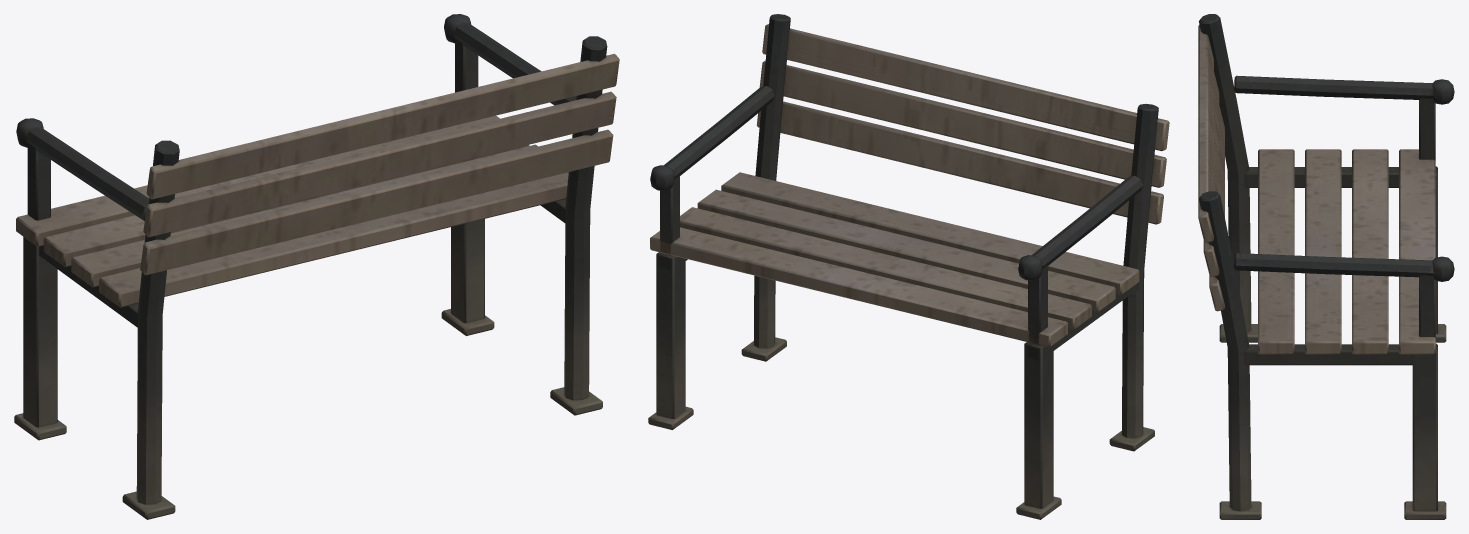
The model's file is bench-v2.glb.
3 views of the same model, side by side, from view 1: azimuth 30°, elevation 25°; view 2: azimuth 150°, elevation 25°; view 3: azimuth 270°, elevation 25° (orthographic). The views are drawn at different scales.
Visible parts, largest first — view 1: bench; view 2: bench; view 3: bench.
Part boxes in pixels (box(x1,y1,x2,y2)): bench: box(14, 14, 619, 519); bench: box(648, 14, 1169, 519); bench: box(1198, 14, 1454, 519).
Size of the model in its own units: 1.09 by 0.8441 by 0.6109.
1 material, 1 textured.
